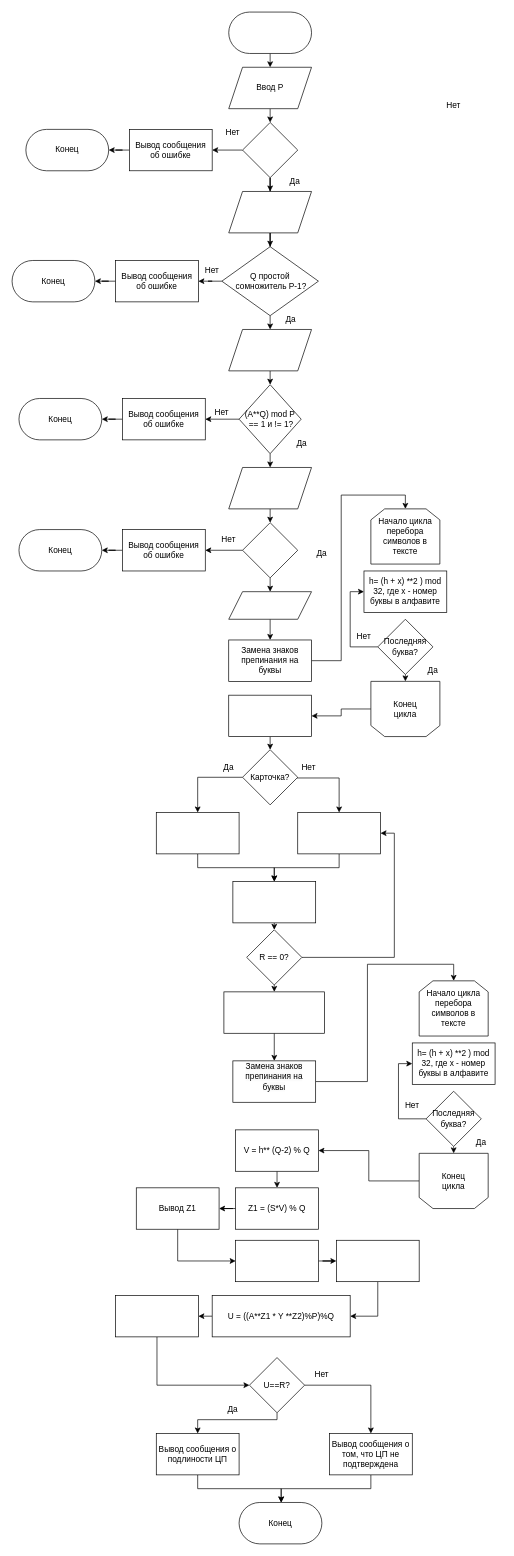
The diagram is 514 pixels wide and 1556 high, and some of its shapes have lost their labels. Each missing label, with the centre of its shape:
"1<х<Q?" belongs at (270,550).
"K = 4" belongs at (197,833).
"P простое?" belongs at (270,150).
"R = ((A**K)%P)%Q" belongs at (274,902).
"S = ((X*R) + (K*h))%Q" belongs at (274,1012).
"Z2 = ((Q-R) * V) % Q" belongs at (276,1261).
"Ввод Q" belongs at (270,212).
"Ввод А" belongs at (270,350).
"Ввод текста" belongs at (270,605).
"Ввод х" belongs at (270,488).
"Вывод U" belongs at (156,1316).
"Вывод Z2" belongs at (377,1261).
"Вычисление открытого ключа Y = A **X mod P" belongs at (270,715).
"Начало" belongs at (270,32).
"Случайное 2<K< Q" belongs at (339,833).
